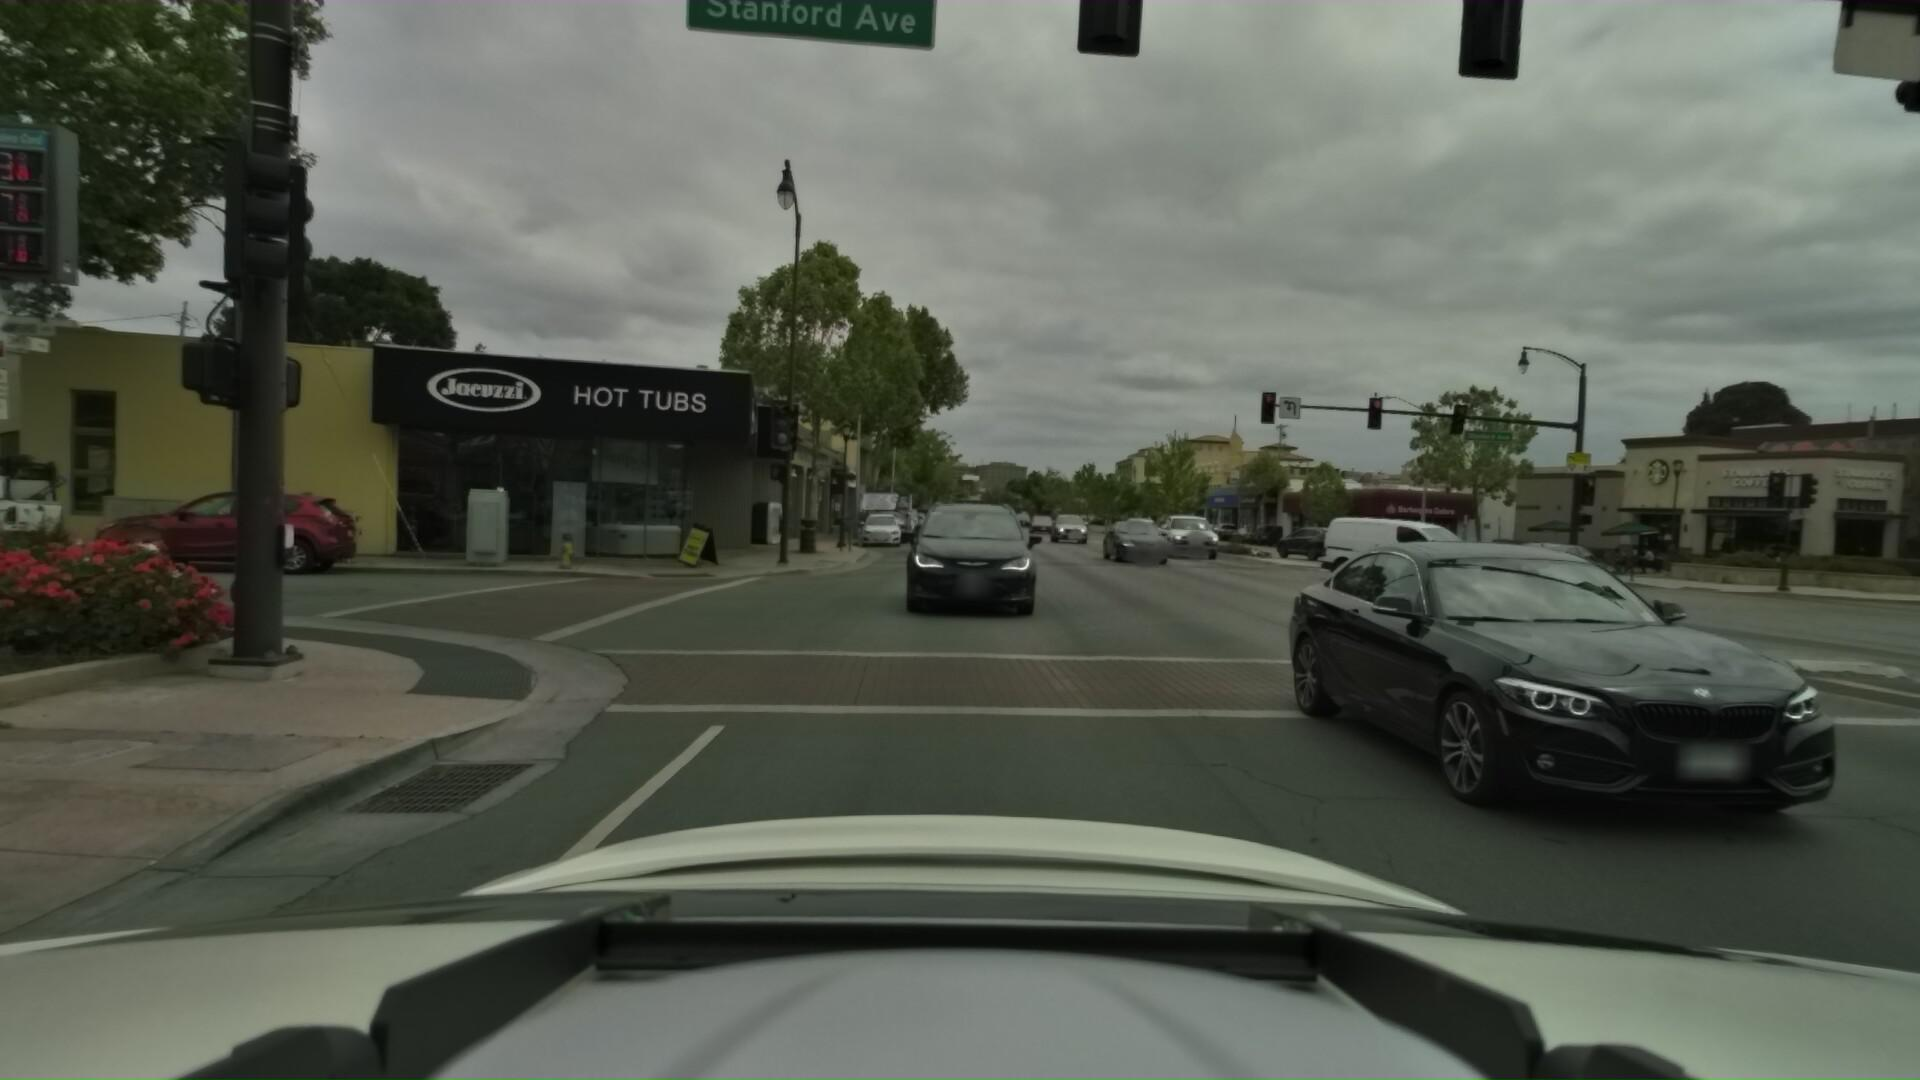car: (1259, 495, 1920, 881), (876, 487, 1058, 634), (105, 483, 381, 579), (1316, 512, 1510, 593), (0, 435, 103, 575), (1480, 531, 1625, 589), (1095, 504, 1175, 564), (1149, 502, 1218, 559), (1257, 518, 1342, 558), (851, 502, 906, 546), (872, 504, 913, 541), (1048, 506, 1089, 542), (889, 502, 924, 537), (1025, 504, 1056, 531)
